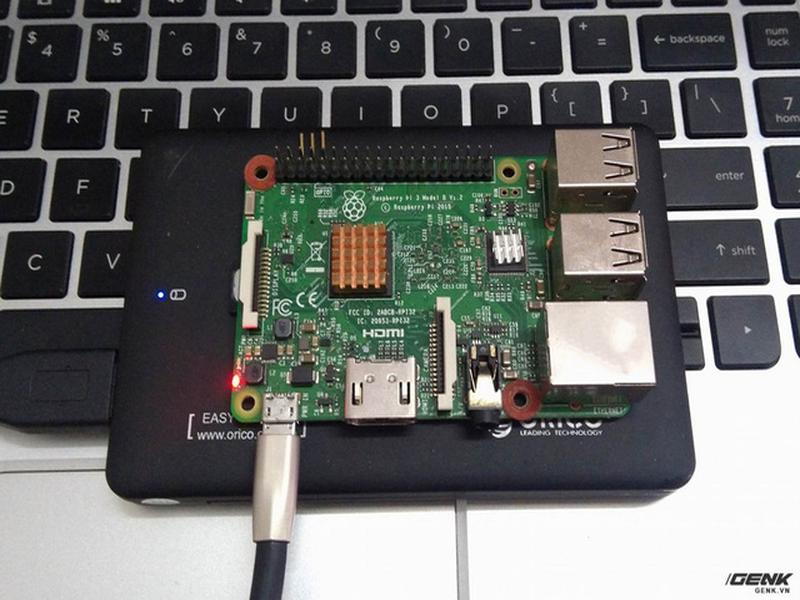Raspberry_Pi_3: (231, 127, 659, 427)
